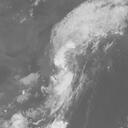cyclone: (35, 36, 85, 102)
